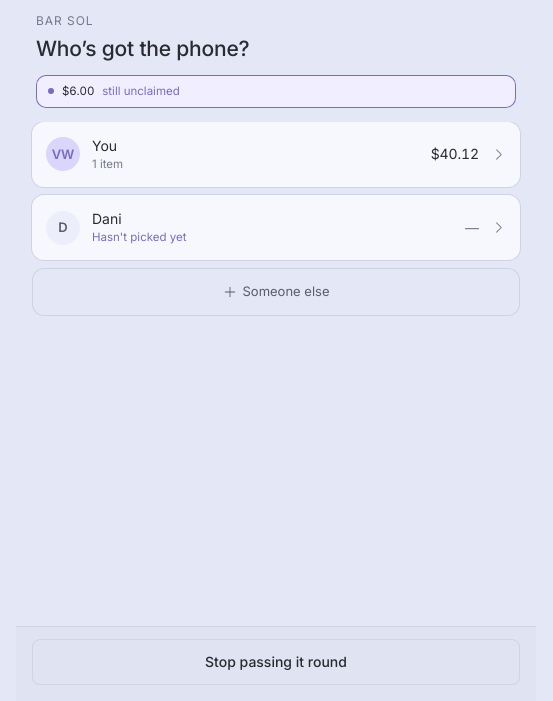
Test case: TabPassPage — seating someone › surfaces a name already at the table
The width and height of the screenshot is (553, 701).
Click the button "Someone else" at (276, 292), box 32,268 -> 520,316
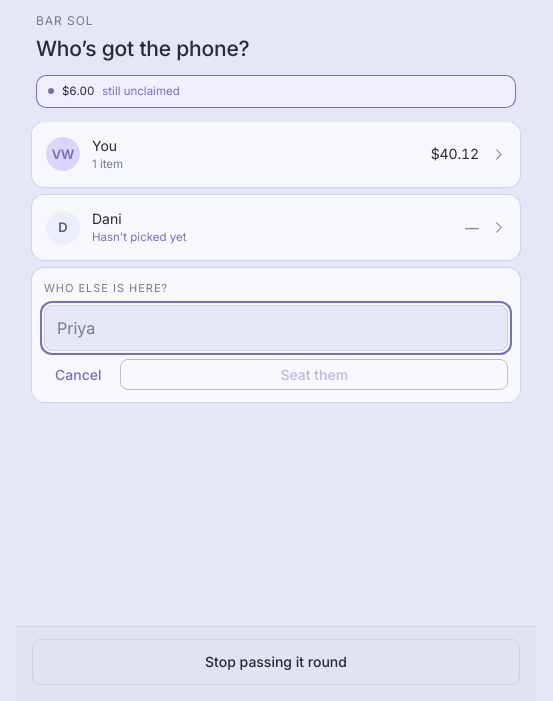
Type "Dani" into the field labelled "Who else is here?" at (276, 328), box 44,305 -> 508,351
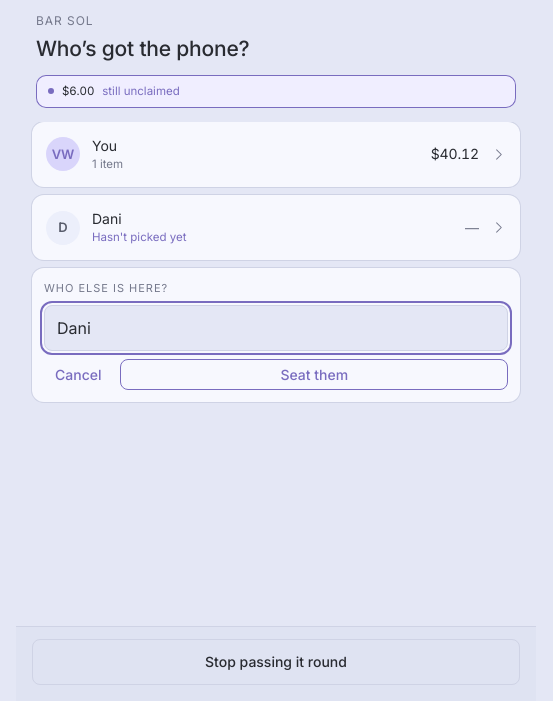
Click the button "Seat them" at (314, 375), box 120,359 -> 508,390
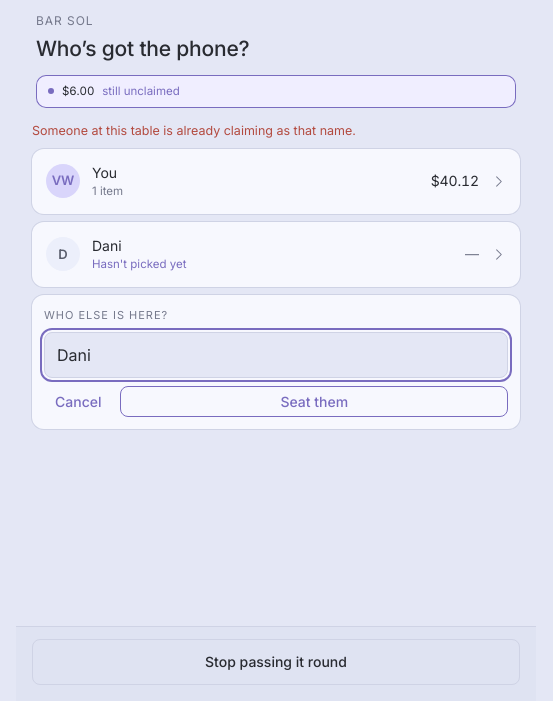
Now the text "Someone at this table is already claiming as that name." is shown, box 32,123 -> 356,138
